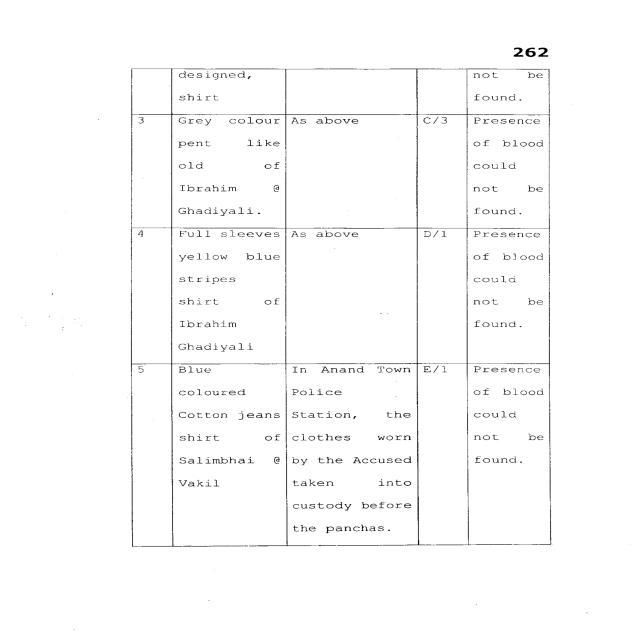page-number: (431, 1, 630, 62)
